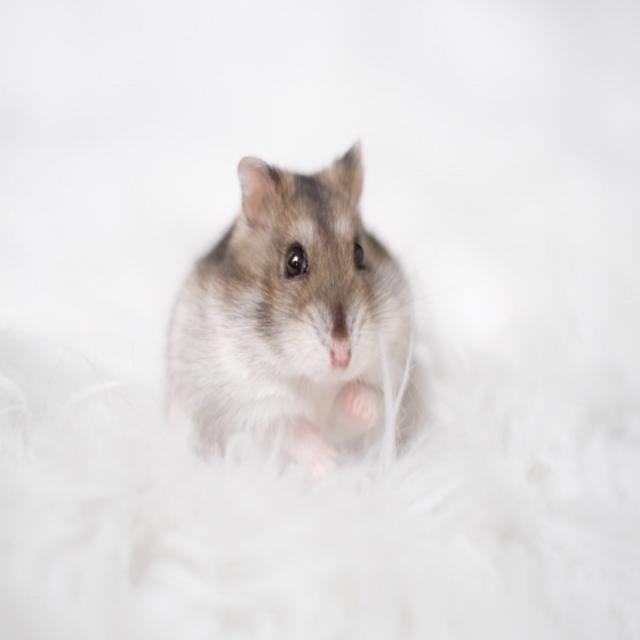hamster: (164, 136, 423, 460)
